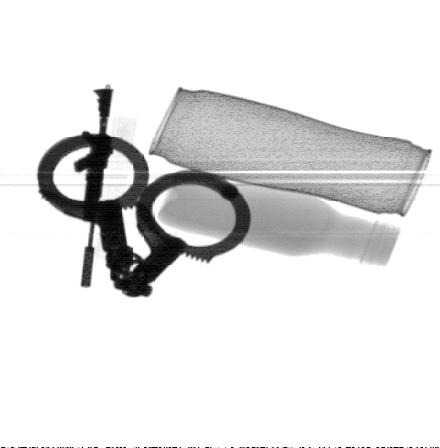Gun: (73, 86, 117, 289)
HandCuffs: (35, 132, 253, 298)
